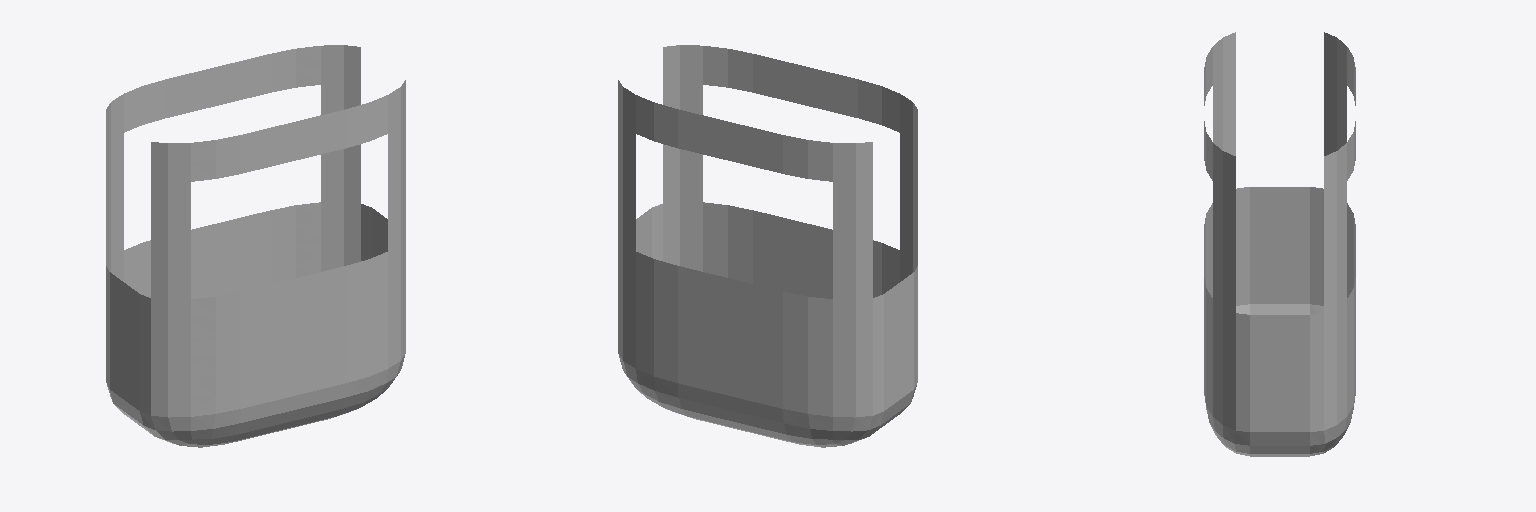
Rendered from bag3_15.obj.
3 views of the same model, side by side, from view 1: azimuth 30°, elevation 25°; view 2: azimuth 150°, elevation 25°; view 3: azimuth 270°, elevation 25° (orthographic).
Visible parts, largest first — view 1: Cube-0-1.097_Cube.212; view 2: Cube-0-1.097_Cube.212; view 3: Cube-0-1.097_Cube.212.
Boxes of the visible parts, x1,y1,x2,y2 form: Cube-0-1.097_Cube.212: [106, 45, 405, 447]; Cube-0-1.097_Cube.212: [618, 45, 917, 447]; Cube-0-1.097_Cube.212: [1204, 32, 1355, 456].
Bounding box in the file's own units: 2 × 2.35 × 1.